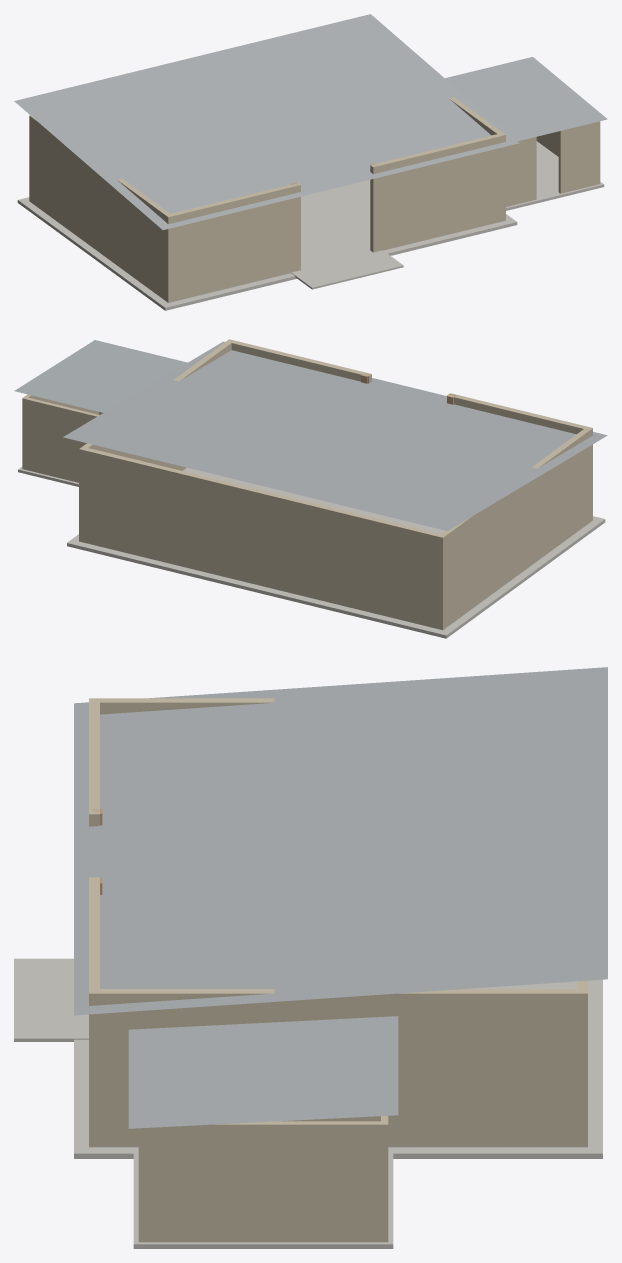
Rendered from livestock-dairy.glb.
3 renders of one model, top to bottom at view 1: azimuth 30°, elevation 25°; view 2: azimuth 150°, elevation 25°; view 3: azimuth 270°, elevation 25°, orthographic. The views are drawn at different scales.
Parts seen in each view (by area): view 1: standing-seam metal, board and batten, concrete; view 2: board and batten, standing-seam metal, concrete; view 3: standing-seam metal, board and batten, concrete.
Part boxes in pixels (box(x1,y1,x2,y2)): standing-seam metal: box(14, 14, 607, 229); board and batten: box(29, 97, 600, 302); concrete: box(17, 141, 604, 310); board and batten: box(22, 339, 592, 629); standing-seam metal: box(14, 340, 607, 530); concrete: box(18, 467, 605, 638); standing-seam metal: box(74, 667, 607, 1128); board and batten: box(89, 698, 587, 1242); concrete: box(14, 958, 602, 1248).
Size of the model in its own units: 19.1 by 4.02 by 11.9.
